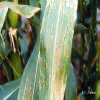Corn rust leaf: (37, 0, 78, 100), (0, 0, 42, 34)
